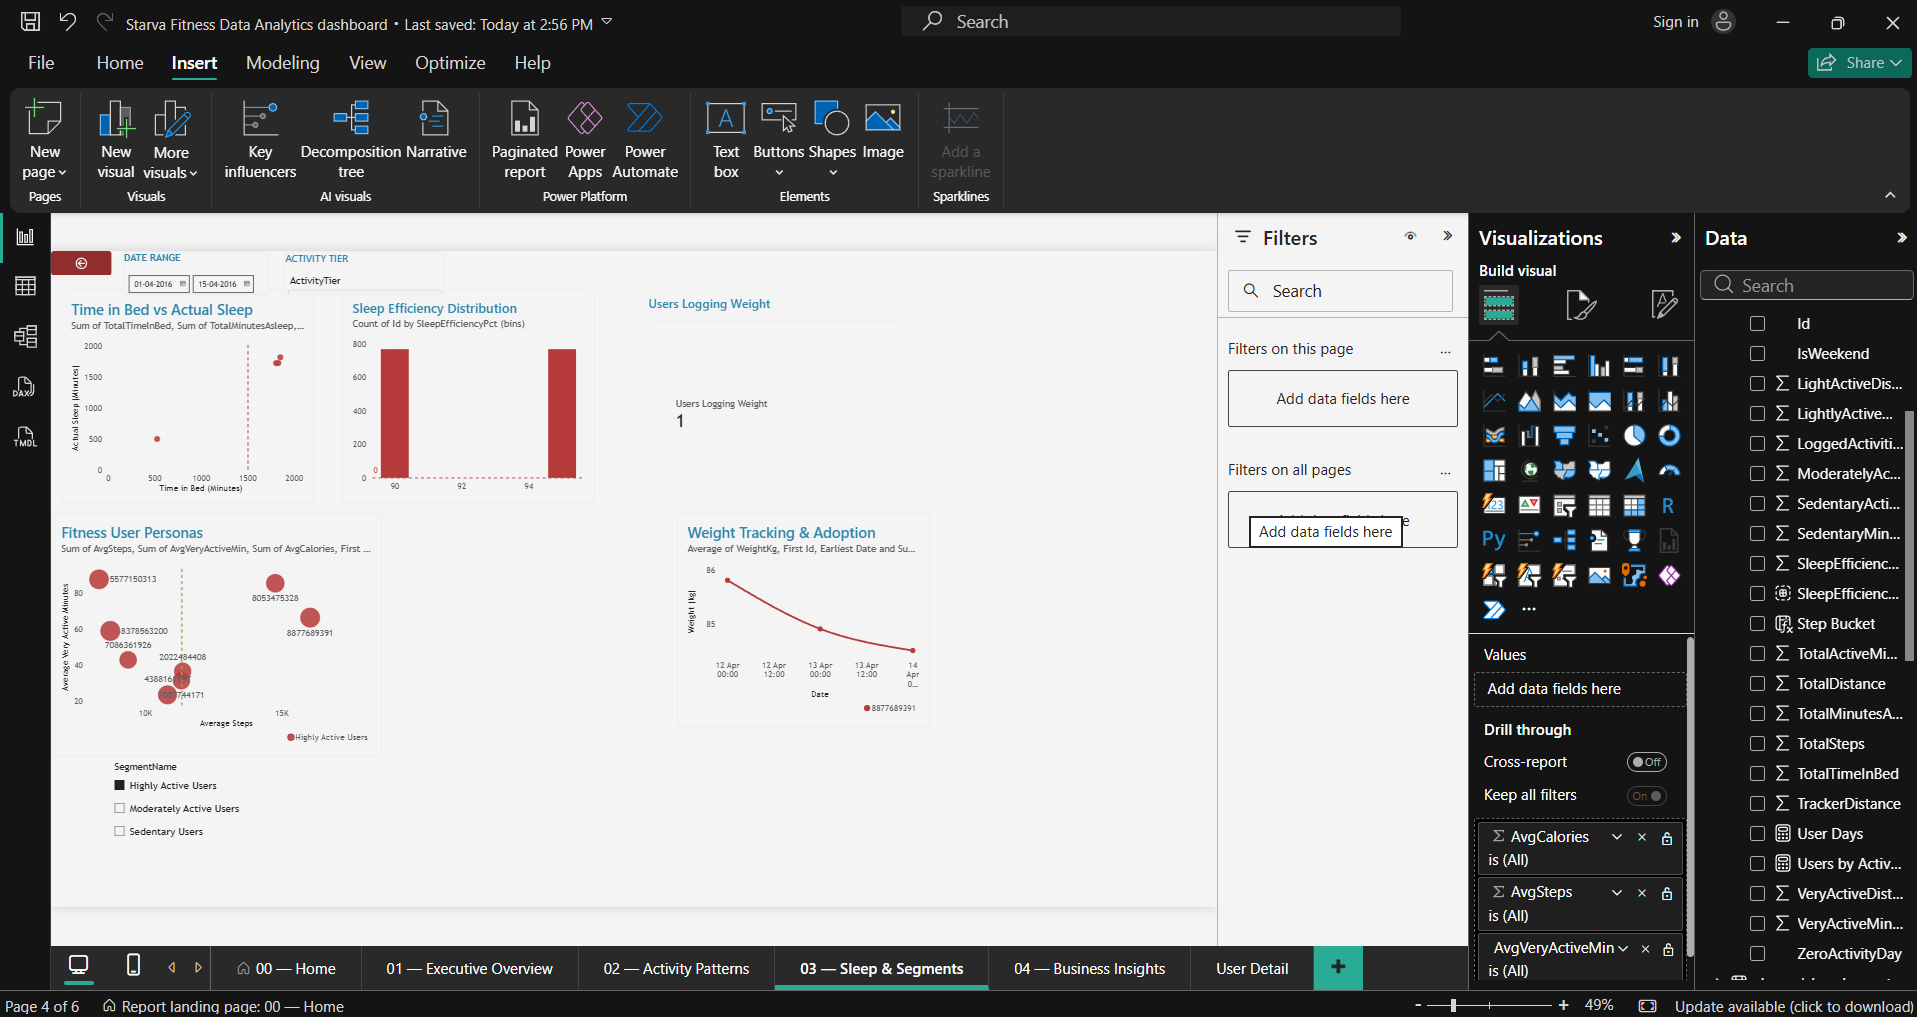

This screenshot's page, from the dashboard's own definition file:
{"tool":"powerbi","page":{"name":"03 — Sleep & Segments","canvas":[1920,1080],"ordinal":3},"visuals":[{"type":"scatterChart","title":"Time in Bed vs Actual Sleep","fields":{"X":["Sum(cleaned_sleepDay_merged.TotalTimeInBed)"],"Y":["Sum(cleaned_sleepDay_merged.TotalMinutesAsleep)"],"Category":["cleaned_sleepDay_merged.Id"]},"box":[16,64,416,352],"z":0},{"type":"clusteredColumnChart","title":"Sleep Efficiency Distribution","fields":{"Category":["cleaned_daily_master.SleepEfficiencyPct (bins)"],"Y":["CountNonNull(cleaned_hourly_master.Id)"]},"box":[480,64,416,352],"z":1000},{"type":"scatterChart","title":"Fitness User Personas","fields":{"X":["Sum(user_segments.AvgSteps)"],"Y":["Sum(user_segments.AvgVeryActiveMin)"],"Series":["user_segments.SegmentName"],"Category":["user_segments.Id"],"Size":["Sum(user_segments.AvgCalories)"]},"box":[0,432,544,400],"z":2000},{"type":"actionButton","box":[0,0,100,40],"z":3000},{"type":"slicer","title":"Segment Profile Summary","fields":{"Values":["user_segments.SegmentName"]},"box":[96,840,552,240],"z":4000},{"type":"lineChart","title":"Weight Tracking & Adoption","fields":{"Category":["cleaned_weightLogInfo_merged.Date"],"Y":["Avg(cleaned_weightLogInfo_merged.WeightKg)"],"Series":["cleaned_weightLogInfo_merged.Id"]},"box":[1032,432,416,352],"z":5000},{"type":"cardVisual","title":"Users Logging Weight","fields":{"Data":["Measure_Table.Users Logging Weight"]},"box":[984,72,416,352],"z":6000},{"type":"slicer","title":"DATE RANGE","fields":{"Values":["DateDim.Date"]},"box":[120,0,240,72],"z":7000},{"type":"slicer","title":"ACTIVITY TIER","fields":{"Values":["cleaned_daily_master.ActivityTier"]},"box":[384,0,264,72],"z":8000},{"type":"textbox","box":[576,456,416,224],"z":9000},{"type":"textbox","box":[576,696,456,312],"z":10000},{"type":"textbox","box":[1488,624,408,432],"z":11000}]}

Visuals, with their boxes on the page's 1920x1080 design canvas (x1, y1, x2, y2). These are canvas units, not pixel positions in the 1917x1017 screenshot, which may show the page scaled, cropped or inside an application window:
"Time in Bed vs Actual Sleep" scatterChart: {"left": 16, "top": 64, "right": 432, "bottom": 416}
"Sleep Efficiency Distribution" clusteredColumnChart: {"left": 480, "top": 64, "right": 896, "bottom": 416}
"Fitness User Personas" scatterChart: {"left": 0, "top": 432, "right": 544, "bottom": 832}
actionButton: {"left": 0, "top": 0, "right": 100, "bottom": 40}
"Segment Profile Summary" slicer: {"left": 96, "top": 840, "right": 648, "bottom": 1080}
"Weight Tracking & Adoption" lineChart: {"left": 1032, "top": 432, "right": 1448, "bottom": 784}
"Users Logging Weight" cardVisual: {"left": 984, "top": 72, "right": 1400, "bottom": 424}
"DATE RANGE" slicer: {"left": 120, "top": 0, "right": 360, "bottom": 72}
"ACTIVITY TIER" slicer: {"left": 384, "top": 0, "right": 648, "bottom": 72}
textbox: {"left": 576, "top": 456, "right": 992, "bottom": 680}
textbox: {"left": 576, "top": 696, "right": 1032, "bottom": 1008}
textbox: {"left": 1488, "top": 624, "right": 1896, "bottom": 1056}
